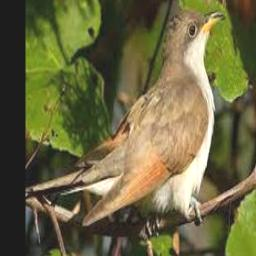Cuckoo: (62, 11, 225, 225)
